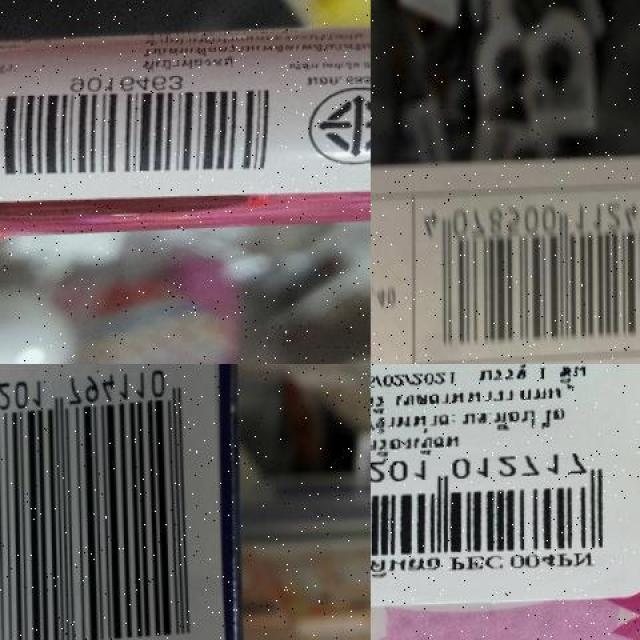Barcode: (0, 364, 212, 640), (414, 190, 640, 362), (0, 68, 284, 193), (370, 455, 626, 569)
